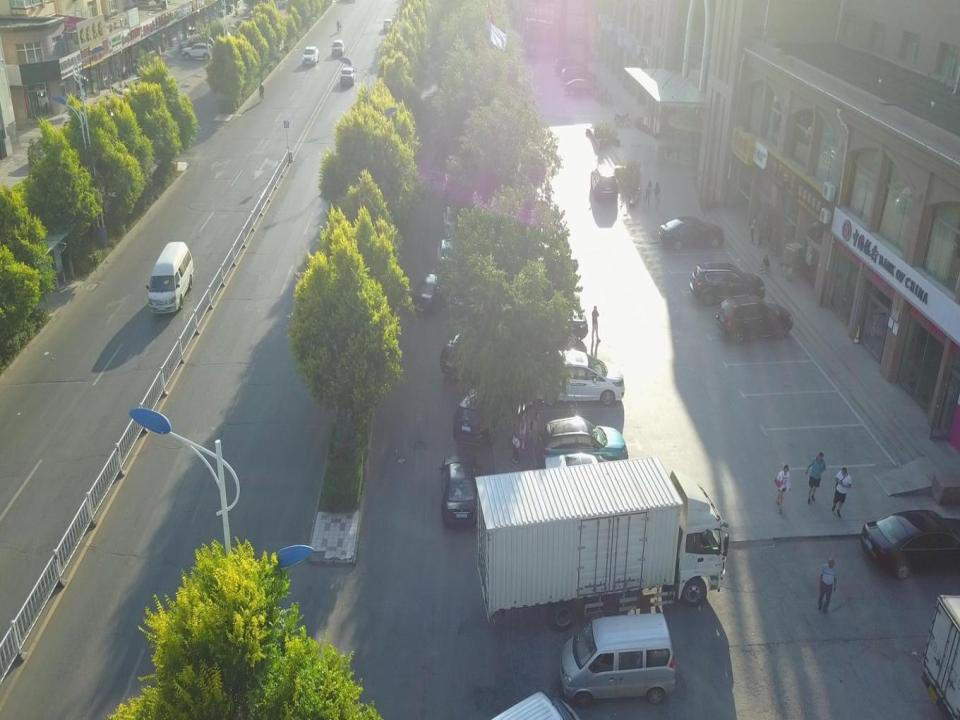car: (859, 509, 960, 580), (522, 350, 625, 406), (534, 416, 629, 469), (537, 452, 623, 502), (508, 296, 589, 346), (715, 294, 793, 344), (452, 377, 504, 445), (689, 262, 766, 306), (438, 454, 482, 525), (658, 216, 724, 251), (439, 329, 481, 381), (28, 132, 66, 166), (410, 272, 442, 312), (590, 164, 619, 200), (436, 239, 459, 273), (560, 66, 597, 86), (442, 205, 464, 238), (441, 172, 462, 204), (181, 42, 214, 61), (554, 56, 588, 74), (563, 78, 599, 95), (186, 36, 214, 54), (301, 46, 319, 67), (340, 68, 356, 84), (331, 40, 345, 57), (383, 18, 394, 33)
truck: (476, 456, 728, 632), (920, 593, 959, 720)
van: (559, 612, 676, 708), (146, 241, 194, 314)
